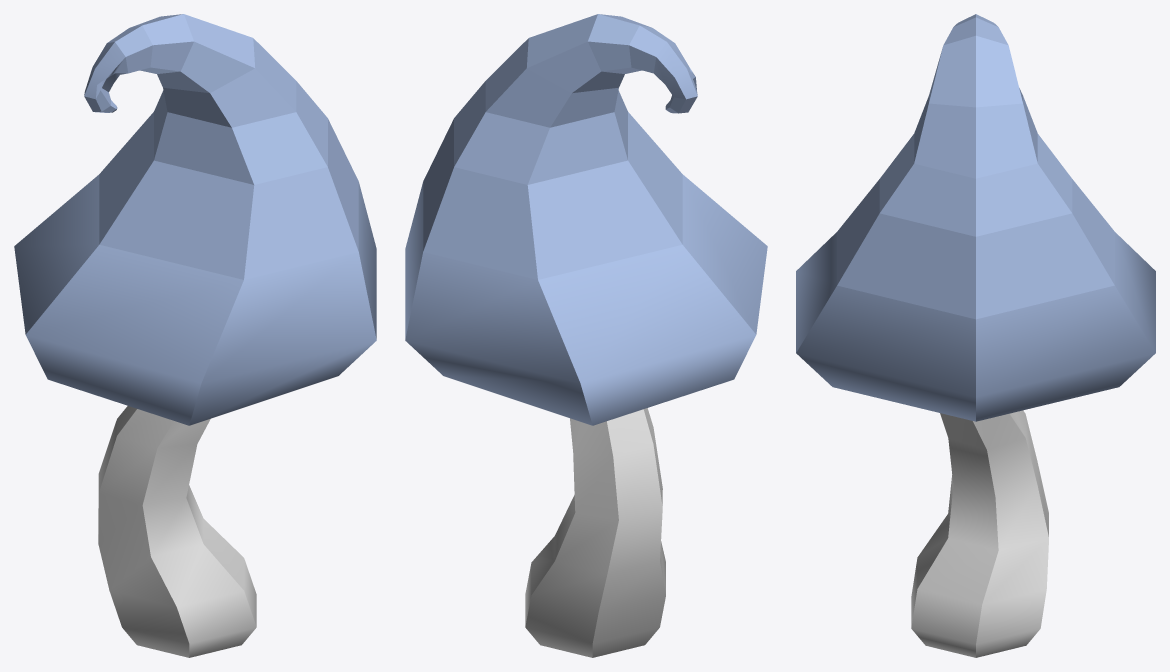
File: mushroom2.fbx
3 views of the same model, side by side, from view 1: azimuth 30°, elevation 25°; view 2: azimuth 150°, elevation 25°; view 3: azimuth 270°, elevation 25° (orthographic). The views are drawn at different scales.
Parts seen in each view (by area): view 1: pCylinder76, pCylinder77; view 2: pCylinder76, pCylinder77; view 3: pCylinder76, pCylinder77.
Boxes of the visible parts, x1,y1,x2,y2 form: pCylinder76: [14, 14, 376, 425]; pCylinder77: [98, 406, 256, 657]; pCylinder76: [405, 14, 767, 425]; pCylinder77: [525, 408, 665, 657]; pCylinder76: [796, 14, 1155, 421]; pCylinder77: [911, 410, 1048, 657].
Bounding box in the file's own units: 2.25 × 3.79 × 2.07.
